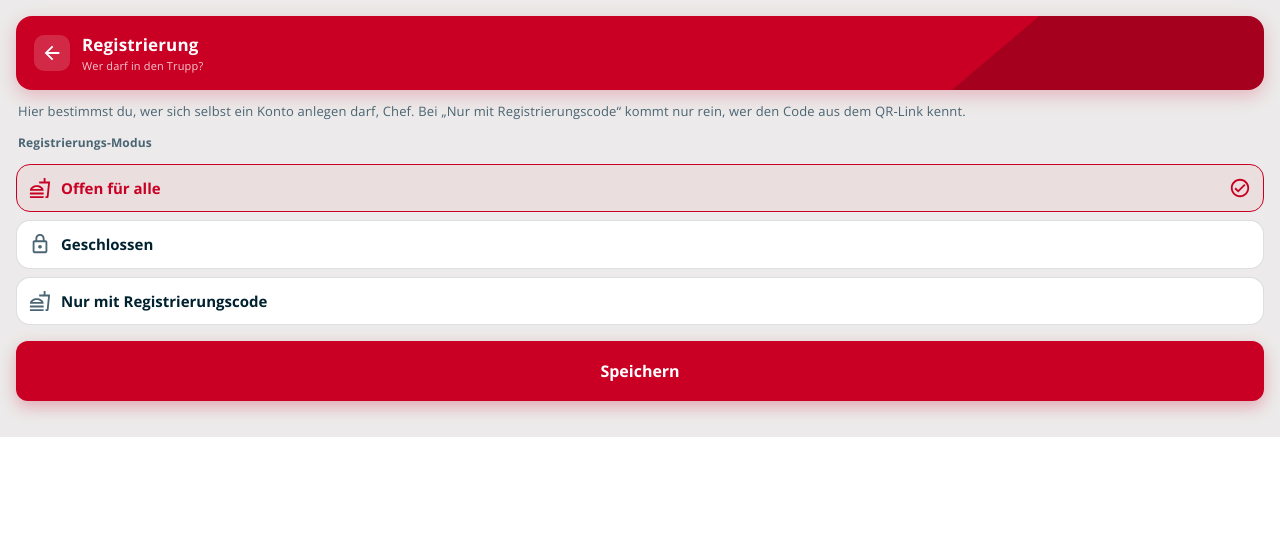
Test: AdminRegistrationModePage › lädt den Modus und zeigt das Code-Feld nur bei „Nur mit Registrierungscode“
The width and height of the screenshot is (1280, 545).
Expected: the radio button labelled "Offen für alle" is shown, [16,164,1264,212]
Pick SecretKeyOnly → the field appears.
Step 1. Click the radio button labelled "Nur mit Registrierungscode" → {"x": 164, "y": 300}, box [16,276,1264,325]
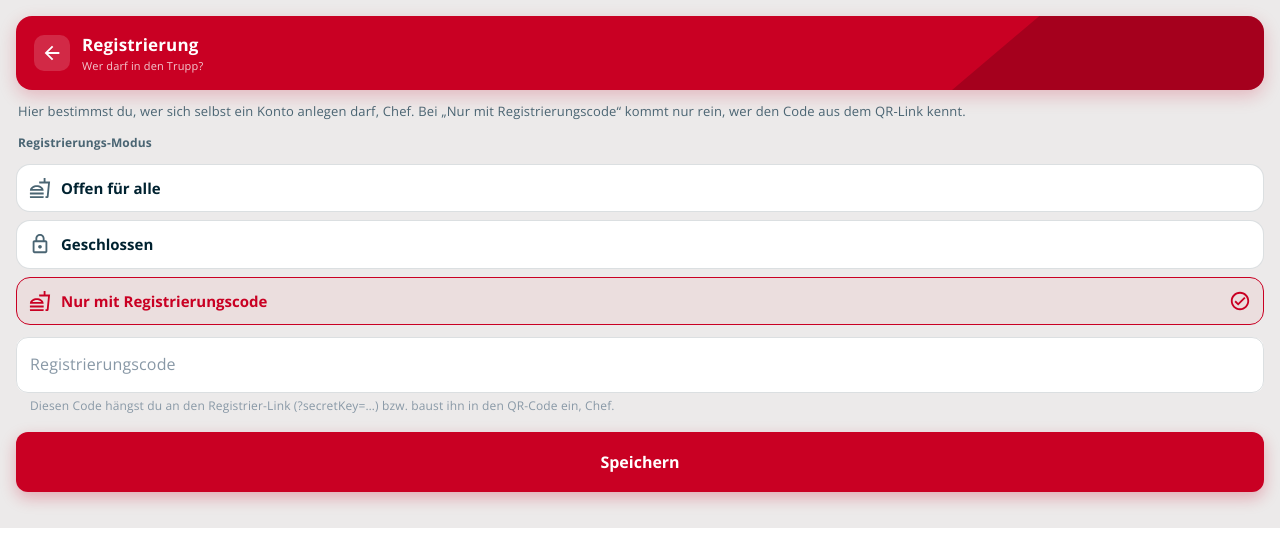
Result: the field labelled "Registrierungscode" is shown at [16,337,1264,393]
